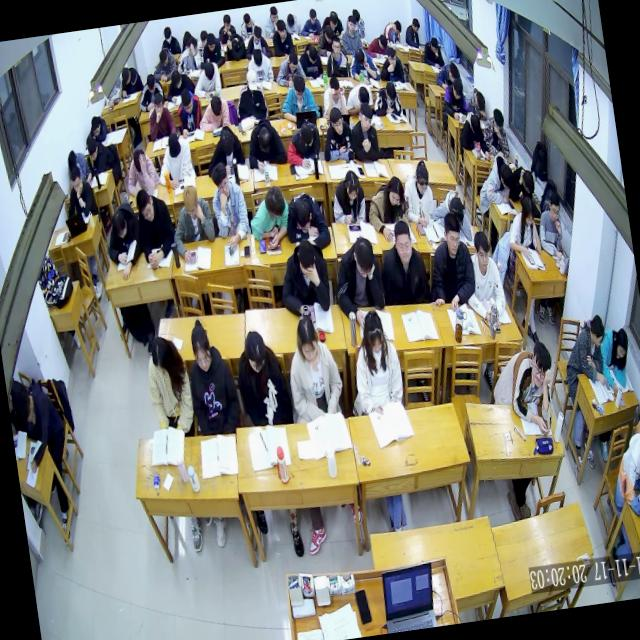bow: (487, 338, 563, 441), (100, 198, 146, 282), (246, 182, 294, 254), (281, 189, 333, 253), (243, 115, 289, 176), (430, 187, 474, 244), (474, 152, 518, 208), (202, 123, 246, 179), (82, 132, 116, 180), (456, 109, 489, 157), (196, 92, 232, 134), (346, 44, 381, 87), (190, 60, 224, 102), (272, 48, 307, 88), (164, 65, 198, 105), (370, 77, 403, 116), (344, 80, 377, 119), (462, 84, 490, 122), (118, 64, 144, 100), (83, 113, 112, 145), (434, 62, 464, 92), (222, 29, 248, 63), (320, 10, 346, 40), (365, 33, 390, 62), (358, 98, 376, 132), (287, 50, 300, 72)
down: (188, 322, 214, 376), (8, 382, 36, 430), (242, 328, 270, 376), (293, 316, 321, 364), (360, 308, 388, 356), (351, 234, 378, 281), (148, 332, 172, 378), (296, 239, 319, 280), (263, 182, 287, 220), (134, 186, 157, 224), (292, 198, 314, 236), (108, 206, 130, 242), (182, 183, 202, 221), (412, 162, 432, 200), (587, 313, 607, 350), (342, 167, 362, 203), (386, 175, 406, 208), (612, 328, 630, 361), (521, 194, 538, 228), (520, 166, 538, 197), (218, 127, 235, 157), (165, 127, 182, 157), (179, 86, 196, 116), (298, 122, 316, 150), (498, 162, 515, 191), (68, 165, 85, 194), (255, 125, 273, 152), (292, 72, 308, 102), (132, 148, 148, 175), (244, 68, 260, 95), (490, 108, 506, 134), (209, 92, 225, 118), (472, 87, 488, 112), (84, 133, 100, 158), (328, 75, 342, 102), (353, 46, 368, 70), (446, 60, 461, 84), (356, 80, 371, 102), (451, 78, 465, 101), (145, 72, 158, 96), (468, 113, 482, 135), (203, 61, 217, 83), (306, 44, 320, 66), (157, 47, 170, 70), (205, 32, 218, 54), (384, 77, 397, 98), (275, 18, 288, 39), (322, 21, 334, 43), (170, 68, 183, 88), (252, 47, 264, 68), (252, 23, 264, 44), (328, 8, 340, 29), (429, 36, 441, 56), (376, 31, 388, 51), (120, 66, 132, 86), (162, 26, 174, 45), (90, 118, 101, 138), (242, 11, 254, 29), (268, 6, 280, 24), (391, 19, 403, 36), (222, 13, 233, 31), (411, 18, 422, 35), (308, 8, 318, 25), (286, 12, 296, 29)
lookup: (526, 340, 556, 390), (392, 217, 416, 261), (442, 210, 464, 254), (208, 160, 232, 200), (472, 230, 493, 270), (328, 104, 347, 136), (546, 192, 563, 224), (152, 92, 166, 116), (385, 44, 399, 68), (330, 34, 343, 58), (345, 13, 358, 34)
sit: (280, 309, 348, 425), (182, 321, 242, 442), (230, 325, 294, 433), (348, 308, 408, 417), (140, 331, 197, 441), (422, 207, 480, 312), (328, 230, 390, 326), (8, 382, 70, 474), (376, 217, 432, 310), (460, 227, 510, 331), (276, 236, 334, 319), (206, 158, 254, 256), (559, 311, 612, 391), (168, 183, 219, 264), (132, 182, 178, 270), (363, 174, 412, 244), (606, 431, 640, 524), (398, 160, 438, 232), (598, 326, 636, 399), (154, 128, 198, 191), (503, 193, 543, 261), (278, 68, 322, 125), (328, 168, 368, 230), (282, 118, 326, 174), (534, 191, 568, 262), (346, 98, 382, 165), (318, 105, 357, 166), (61, 163, 99, 224), (232, 64, 270, 123), (122, 145, 162, 197), (144, 90, 178, 142), (174, 86, 206, 140), (482, 106, 512, 161), (318, 72, 350, 120), (322, 30, 352, 80), (440, 76, 470, 124), (135, 70, 167, 112), (195, 29, 227, 70), (173, 32, 203, 74), (376, 44, 406, 84), (242, 22, 272, 62), (245, 46, 275, 85), (338, 14, 365, 57), (269, 17, 297, 58), (150, 44, 178, 82), (298, 42, 324, 82), (314, 22, 337, 58), (422, 36, 446, 70), (298, 7, 324, 38), (158, 24, 182, 56), (216, 12, 238, 46), (262, 4, 282, 41), (402, 16, 423, 50), (238, 11, 258, 42), (382, 17, 404, 45), (283, 8, 303, 38)
